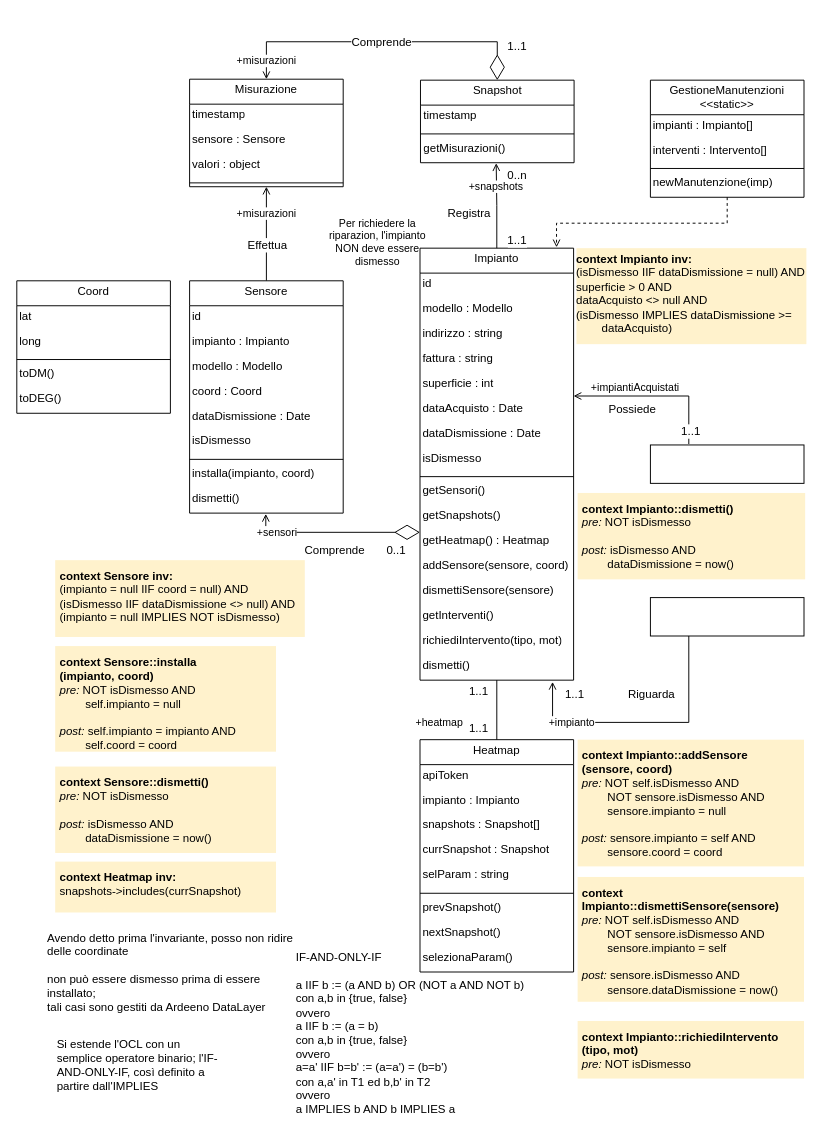
Image size: 826x1134. Some labels were removed from this diagram. The shapes that lost their labels are listed below. From the top down, each one's centre as x and y in pixels, then its label:
At (726,463): "Cliente".
At (726,616): "Intervento".
